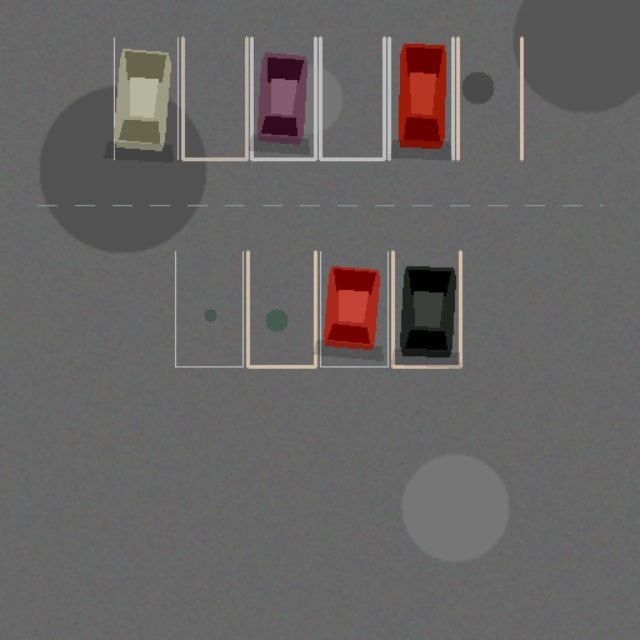space-empty: (175, 251, 243, 366), (247, 251, 315, 366), (320, 37, 384, 159), (457, 37, 521, 159), (183, 37, 246, 159)
space-occupied: (251, 37, 315, 159), (389, 37, 453, 159), (320, 251, 387, 366), (393, 251, 460, 366), (114, 37, 177, 159)
